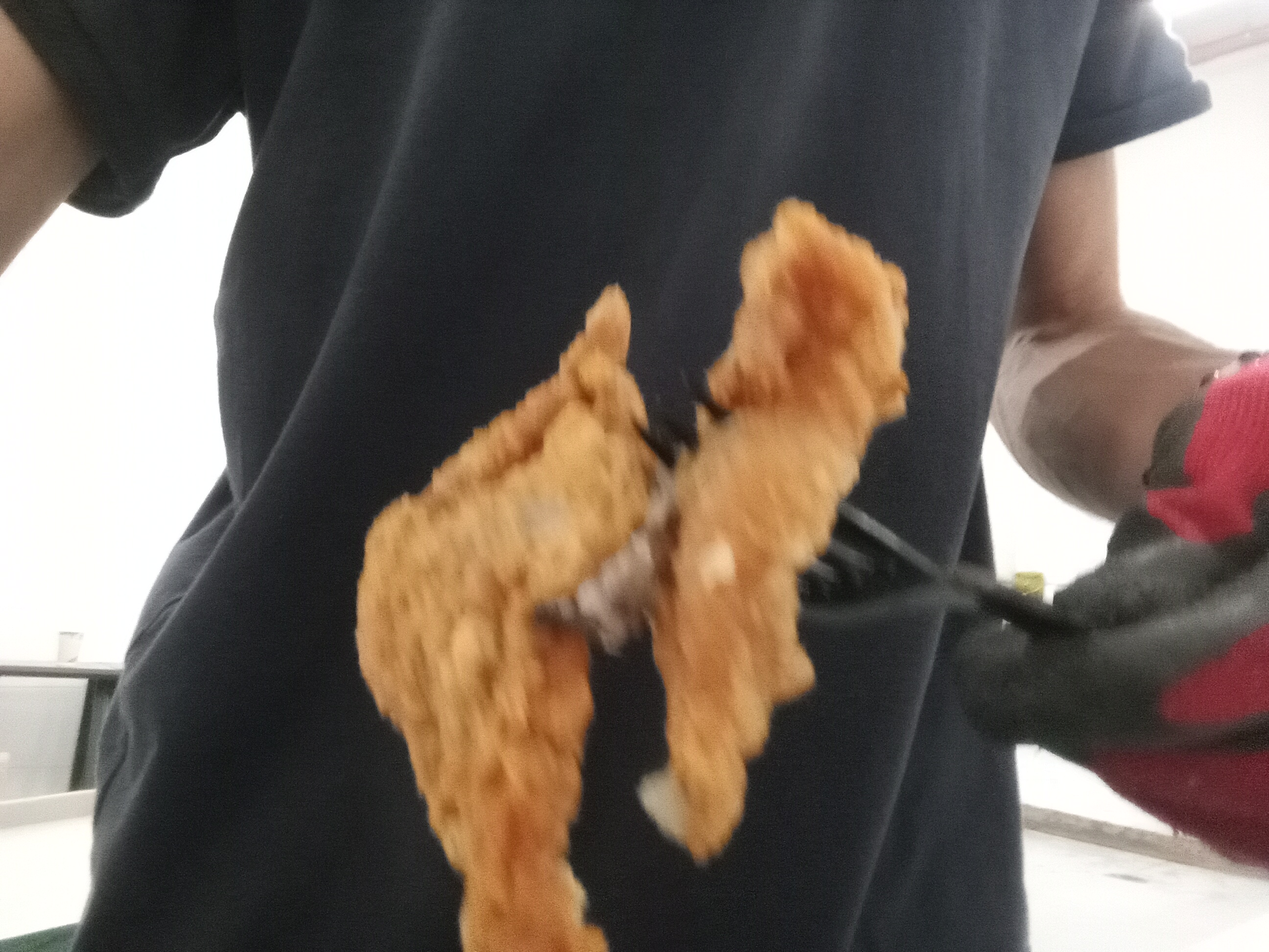Organico: (354, 197, 911, 952)
